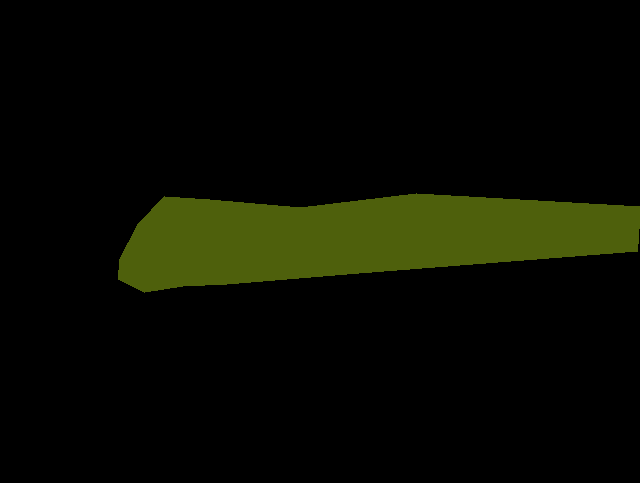Train: (118, 193, 640, 293)
